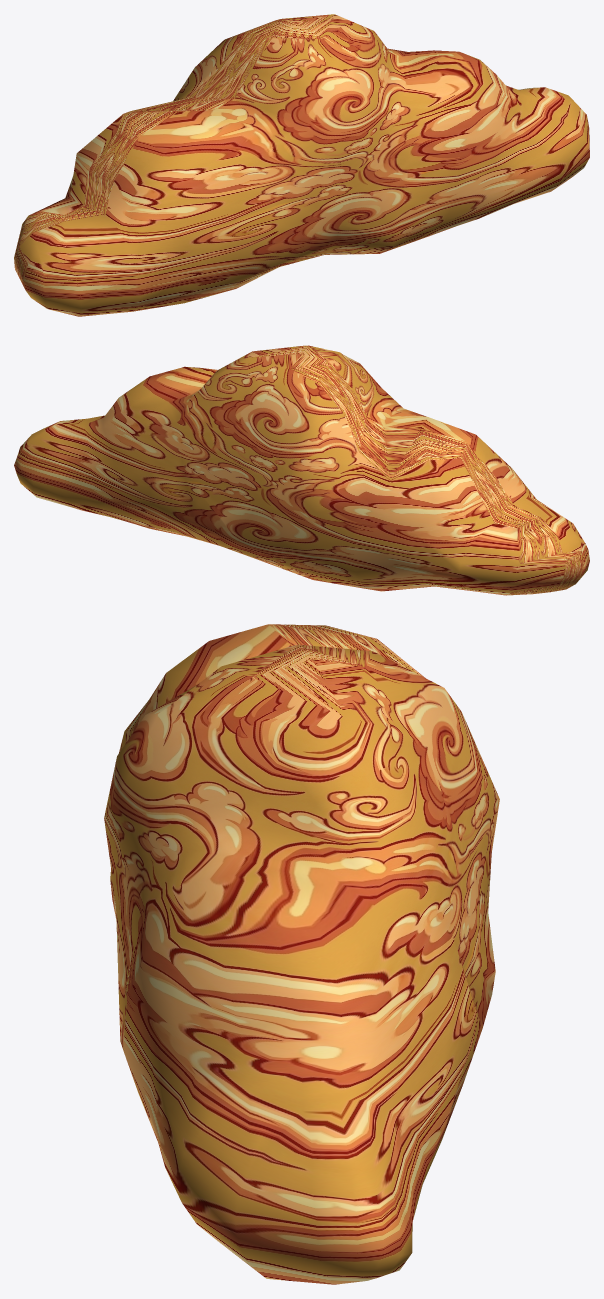
The model's file is dust_cloud.obj.
3 renders of one model, top to bottom at view 1: azimuth 30°, elevation 25°; view 2: azimuth 150°, elevation 25°; view 3: azimuth 270°, elevation 25°, orthographic. The views are drawn at different scales.
Parts seen in each view (by area): view 1: DustCloud; view 2: DustCloud; view 3: DustCloud.
Part boxes in pixels (x1,y1,x2,y2): DustCloud: [14, 14, 589, 316]; DustCloud: [14, 345, 589, 595]; DustCloud: [104, 624, 499, 1284].
Size of the model in its own units: 5.82 by 2.1 by 1.85.
Materials: 1 (1 with a texture image).
